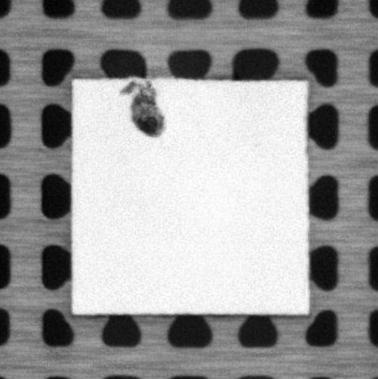DIE_INK: (118, 79, 166, 138)
